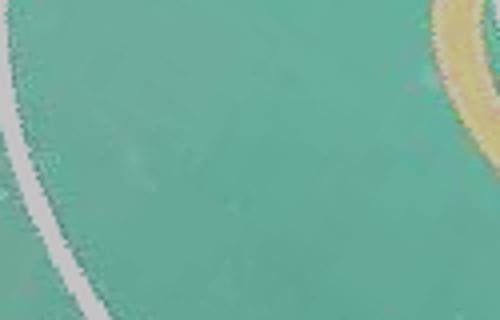Apron: (420, 4, 500, 178)
